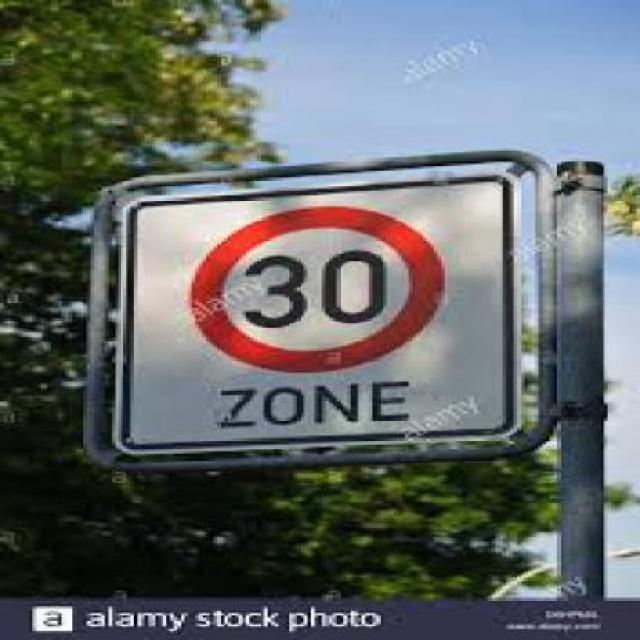forb_speed_over_30: (181, 207, 448, 373)
